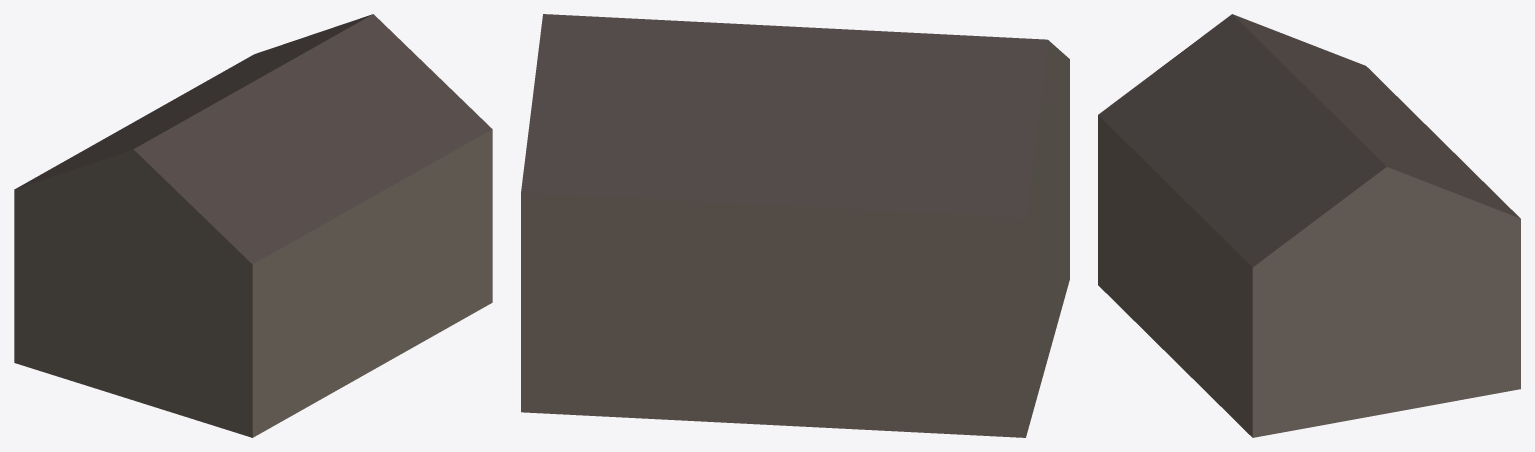
3 renders of one model, left to right at view 1: azimuth 30°, elevation 25°; view 2: azimuth 150°, elevation 25°; view 3: azimuth 270°, elevation 25°, orthographic. The views are drawn at different scales.
Visible parts, largest first — view 1: HP-w1200774746; view 2: HP-w1200774746; view 3: HP-w1200774746.
Boxes of the visible parts, x1,y1,x2,y2 form: HP-w1200774746: [14, 14, 492, 437]; HP-w1200774746: [521, 14, 1069, 437]; HP-w1200774746: [1098, 14, 1520, 437].
Bounding box in the file's own units: 15.23 × 8.69 × 13.49.
